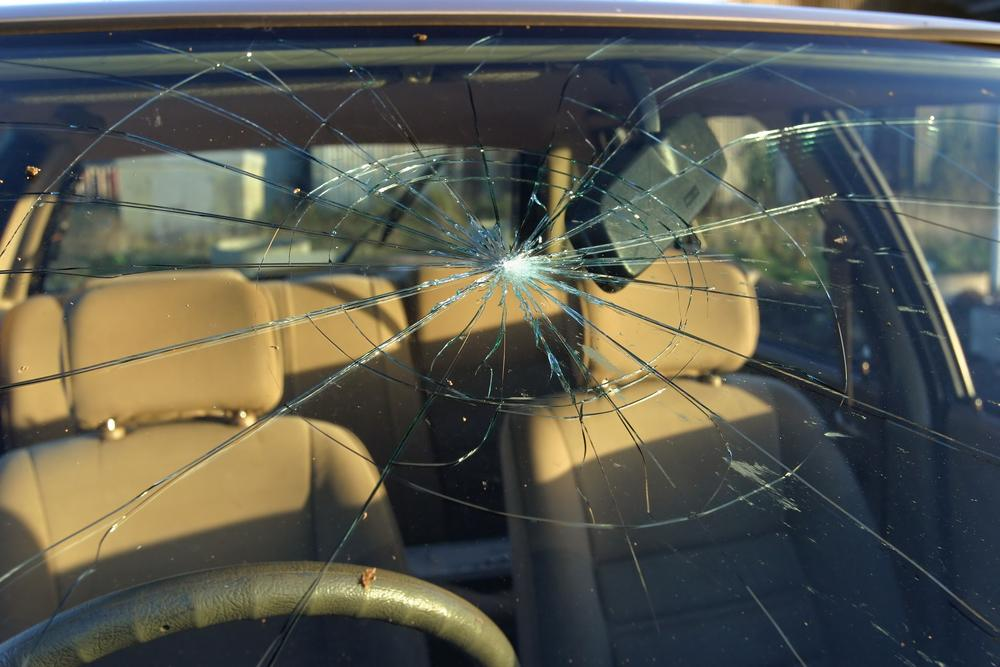glass shatter: (0, 25, 1000, 667)
